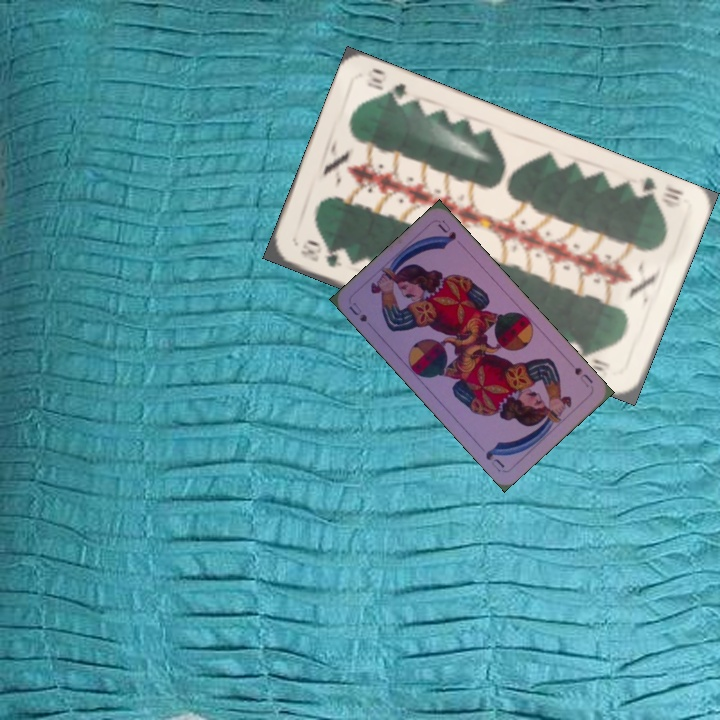G10: (628, 173, 686, 211), (296, 238, 345, 270)
SU: (570, 363, 596, 390), (345, 298, 370, 324)
